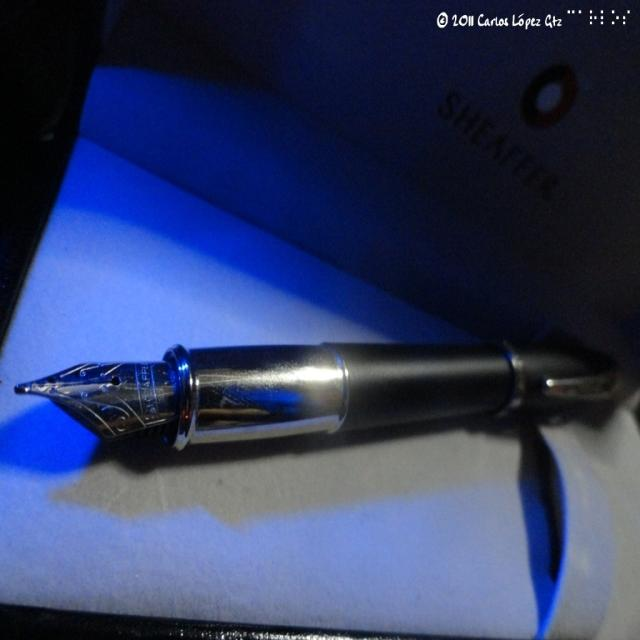pen: (12, 342, 639, 452)
